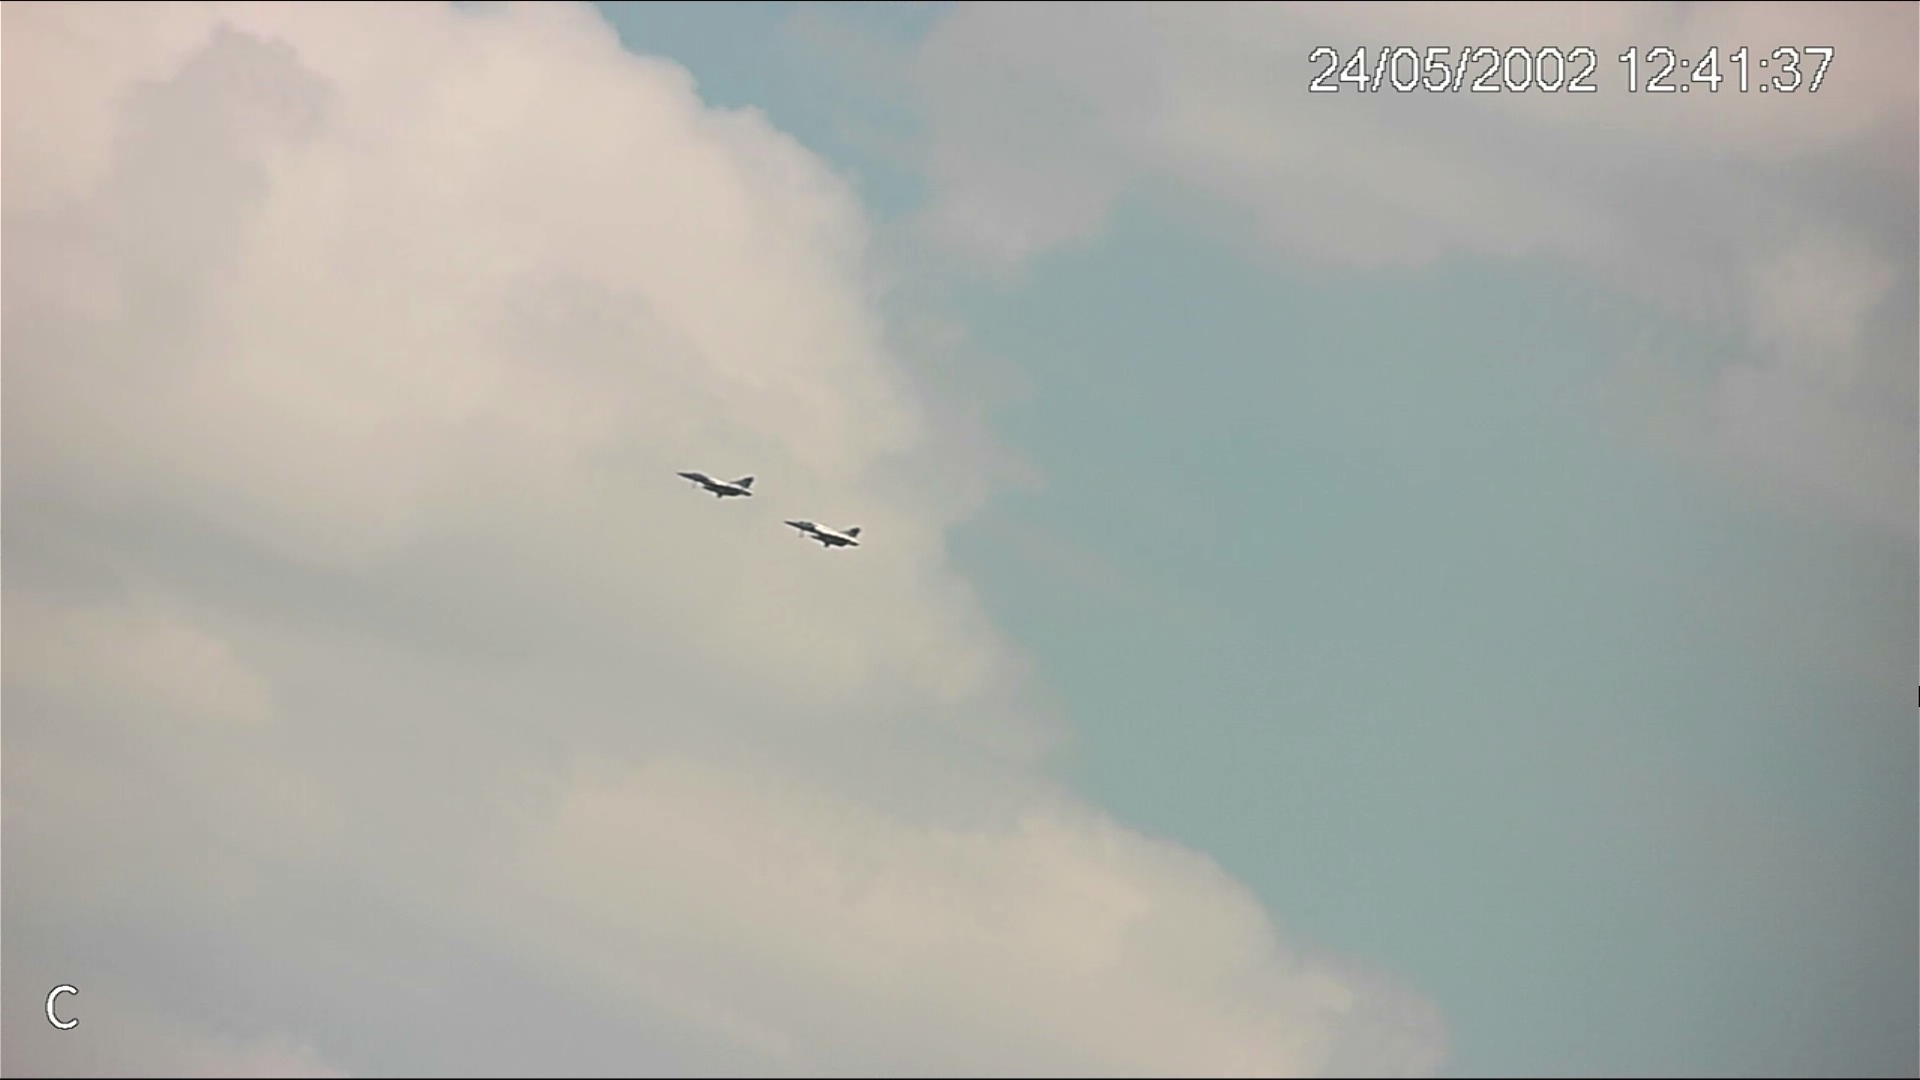SU_30: (785, 518, 862, 551), (676, 469, 757, 500)
